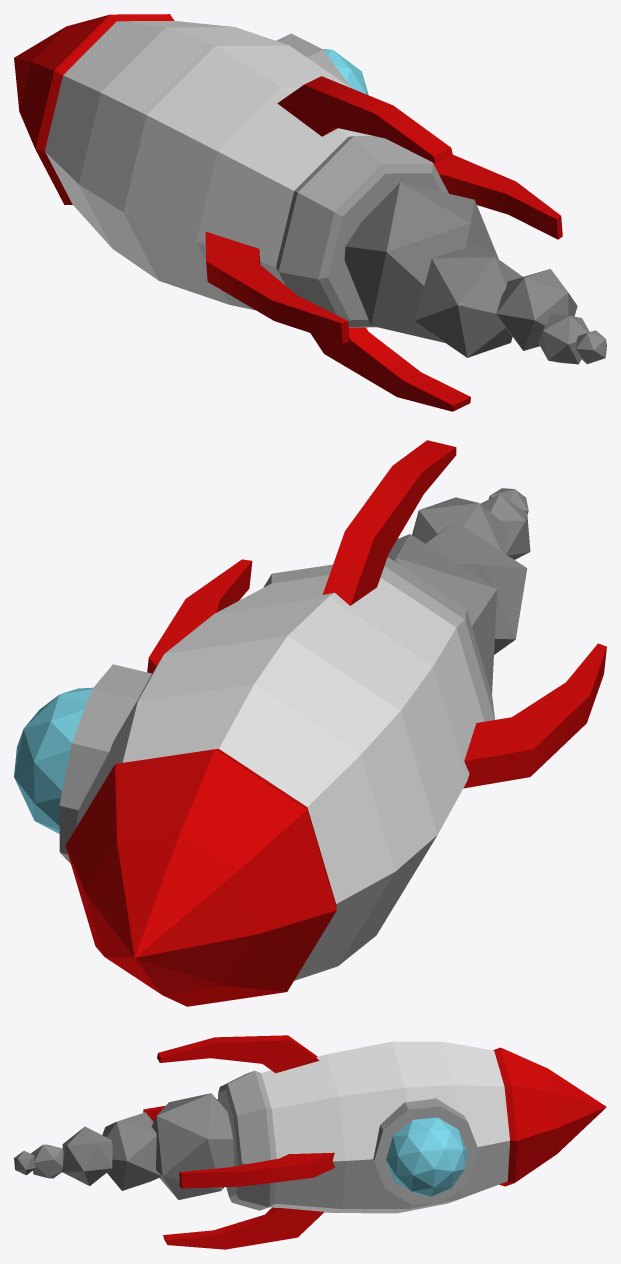
File: rocketShip.gltf
The picture shows the model from 3 angles, top to bottom: view 1: azimuth 30°, elevation 25°; view 2: azimuth 150°, elevation 25°; view 3: azimuth 270°, elevation 25°; orthographic projection. The views are drawn at different scales.
Parts seen in each view (by area): view 1: Rocket Ship 01_Material #28_0.001; view 2: Rocket Ship 01_Material #28_0.001; view 3: Rocket Ship 01_Material #28_0.001.
Boxes of the visible parts, x1=… form: Rocket Ship 01_Material #28_0.001: x1=14, y1=14, x2=606, y2=411; Rocket Ship 01_Material #28_0.001: x1=14, y1=440, x2=606, y2=1006; Rocket Ship 01_Material #28_0.001: x1=14, y1=1035, x2=606, y2=1249.
Size of the model in its own units: 2.91 by 2.73 by 7.33.
